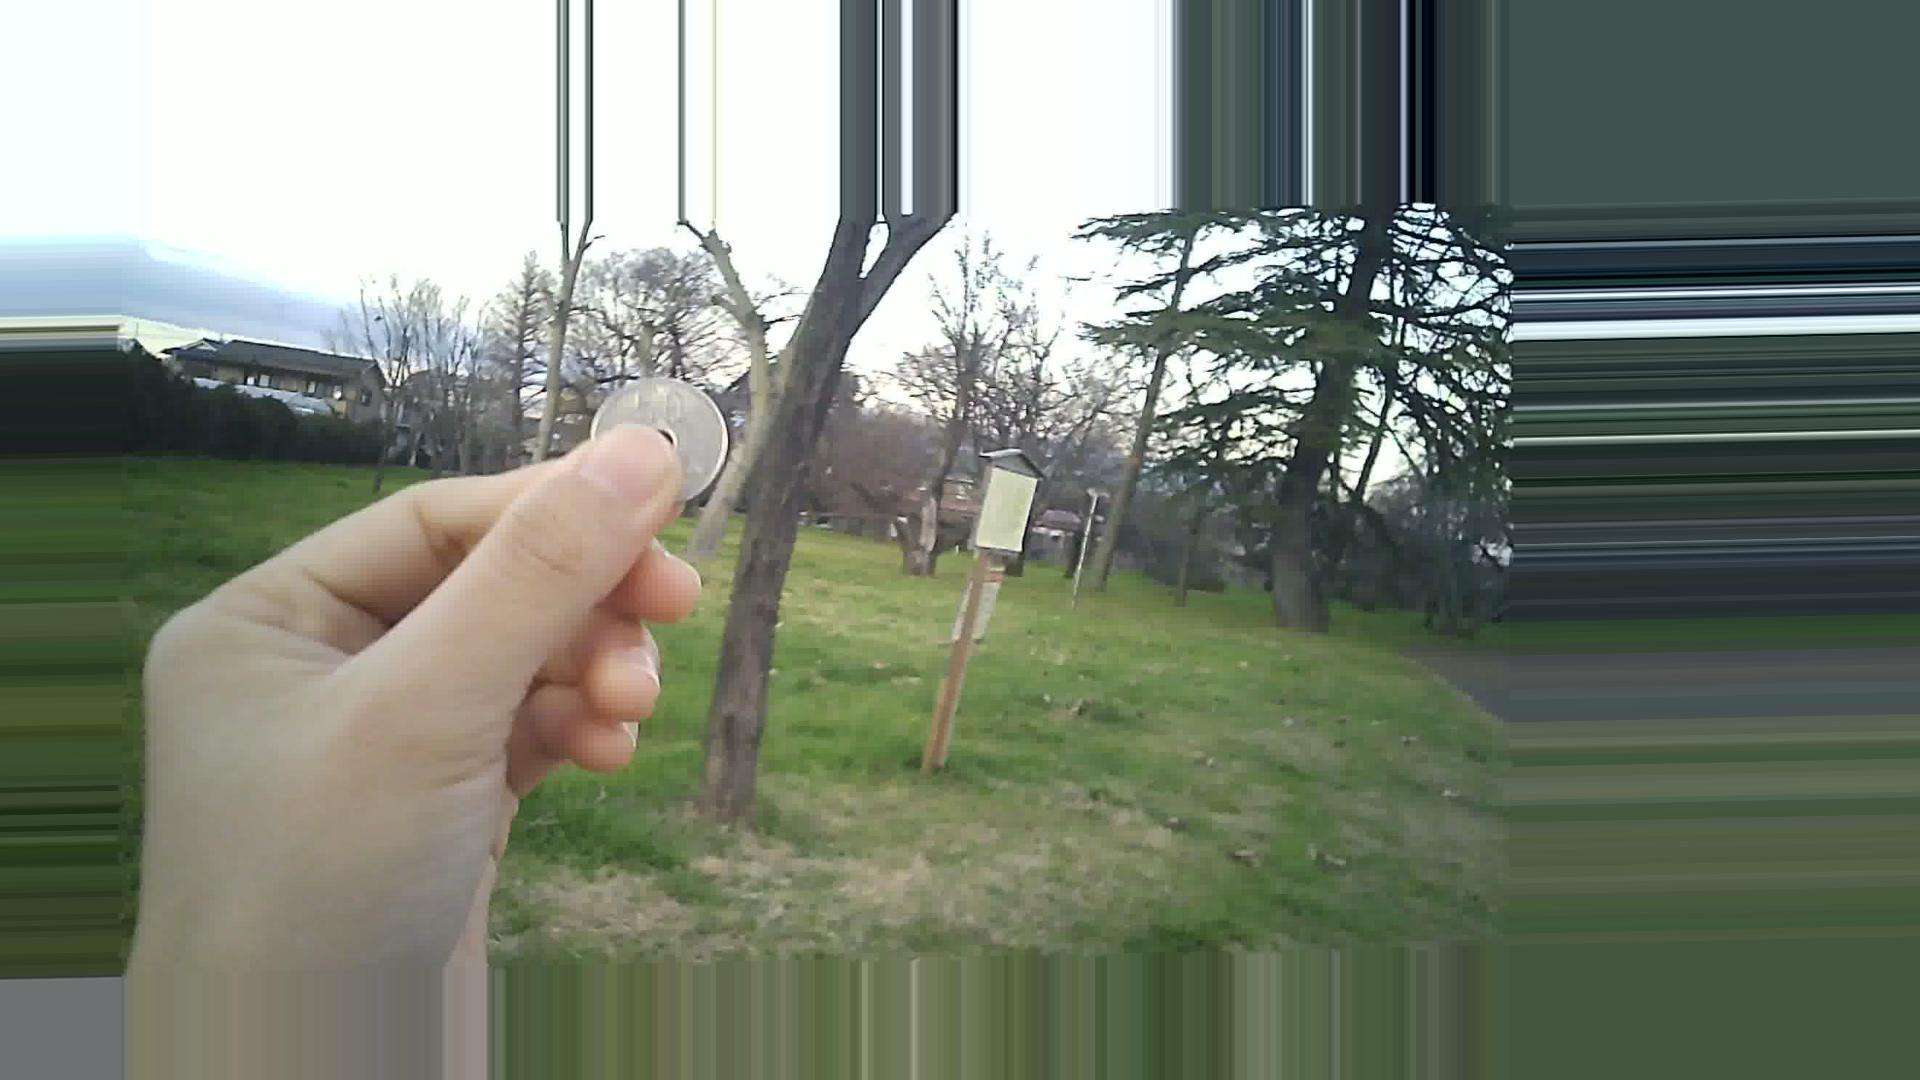50 Yen: (584, 378, 735, 506)
